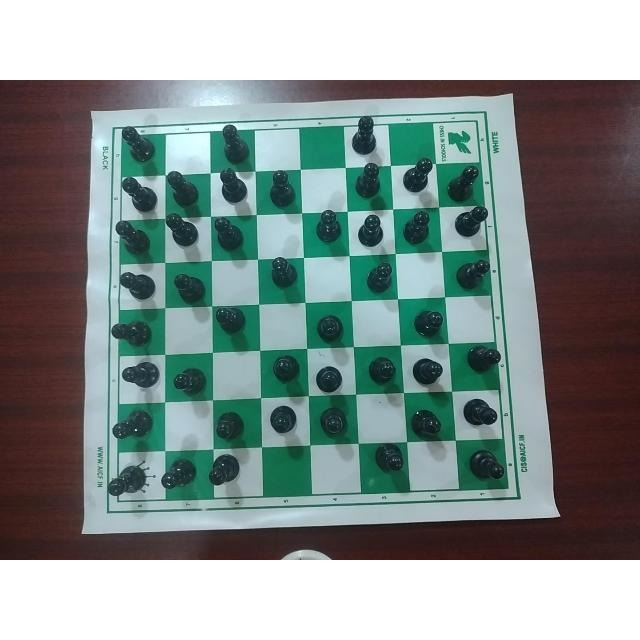black-pawn: (106, 457, 153, 501), (108, 409, 156, 445), (462, 447, 507, 483), (109, 315, 155, 349), (159, 457, 198, 497), (214, 125, 251, 167), (112, 218, 153, 255), (212, 169, 251, 207), (452, 257, 492, 294), (116, 174, 157, 210), (448, 207, 490, 242), (118, 359, 162, 392), (204, 455, 243, 492), (263, 169, 299, 209), (444, 164, 480, 204), (457, 345, 504, 375), (210, 215, 246, 254), (169, 362, 209, 397), (459, 395, 501, 428), (120, 126, 156, 164), (116, 271, 156, 305), (402, 155, 434, 196), (344, 118, 380, 154), (170, 271, 206, 307), (265, 255, 300, 291), (213, 305, 249, 340), (316, 407, 352, 442), (409, 306, 446, 340), (349, 161, 382, 199), (311, 208, 343, 247), (165, 171, 199, 207), (399, 210, 431, 248), (369, 445, 407, 477), (213, 411, 248, 445), (164, 213, 200, 246), (362, 354, 399, 386), (407, 408, 444, 440), (365, 259, 395, 298), (313, 312, 346, 347), (356, 213, 386, 251), (408, 357, 444, 388), (268, 354, 302, 386), (311, 363, 346, 394), (265, 403, 298, 434)
